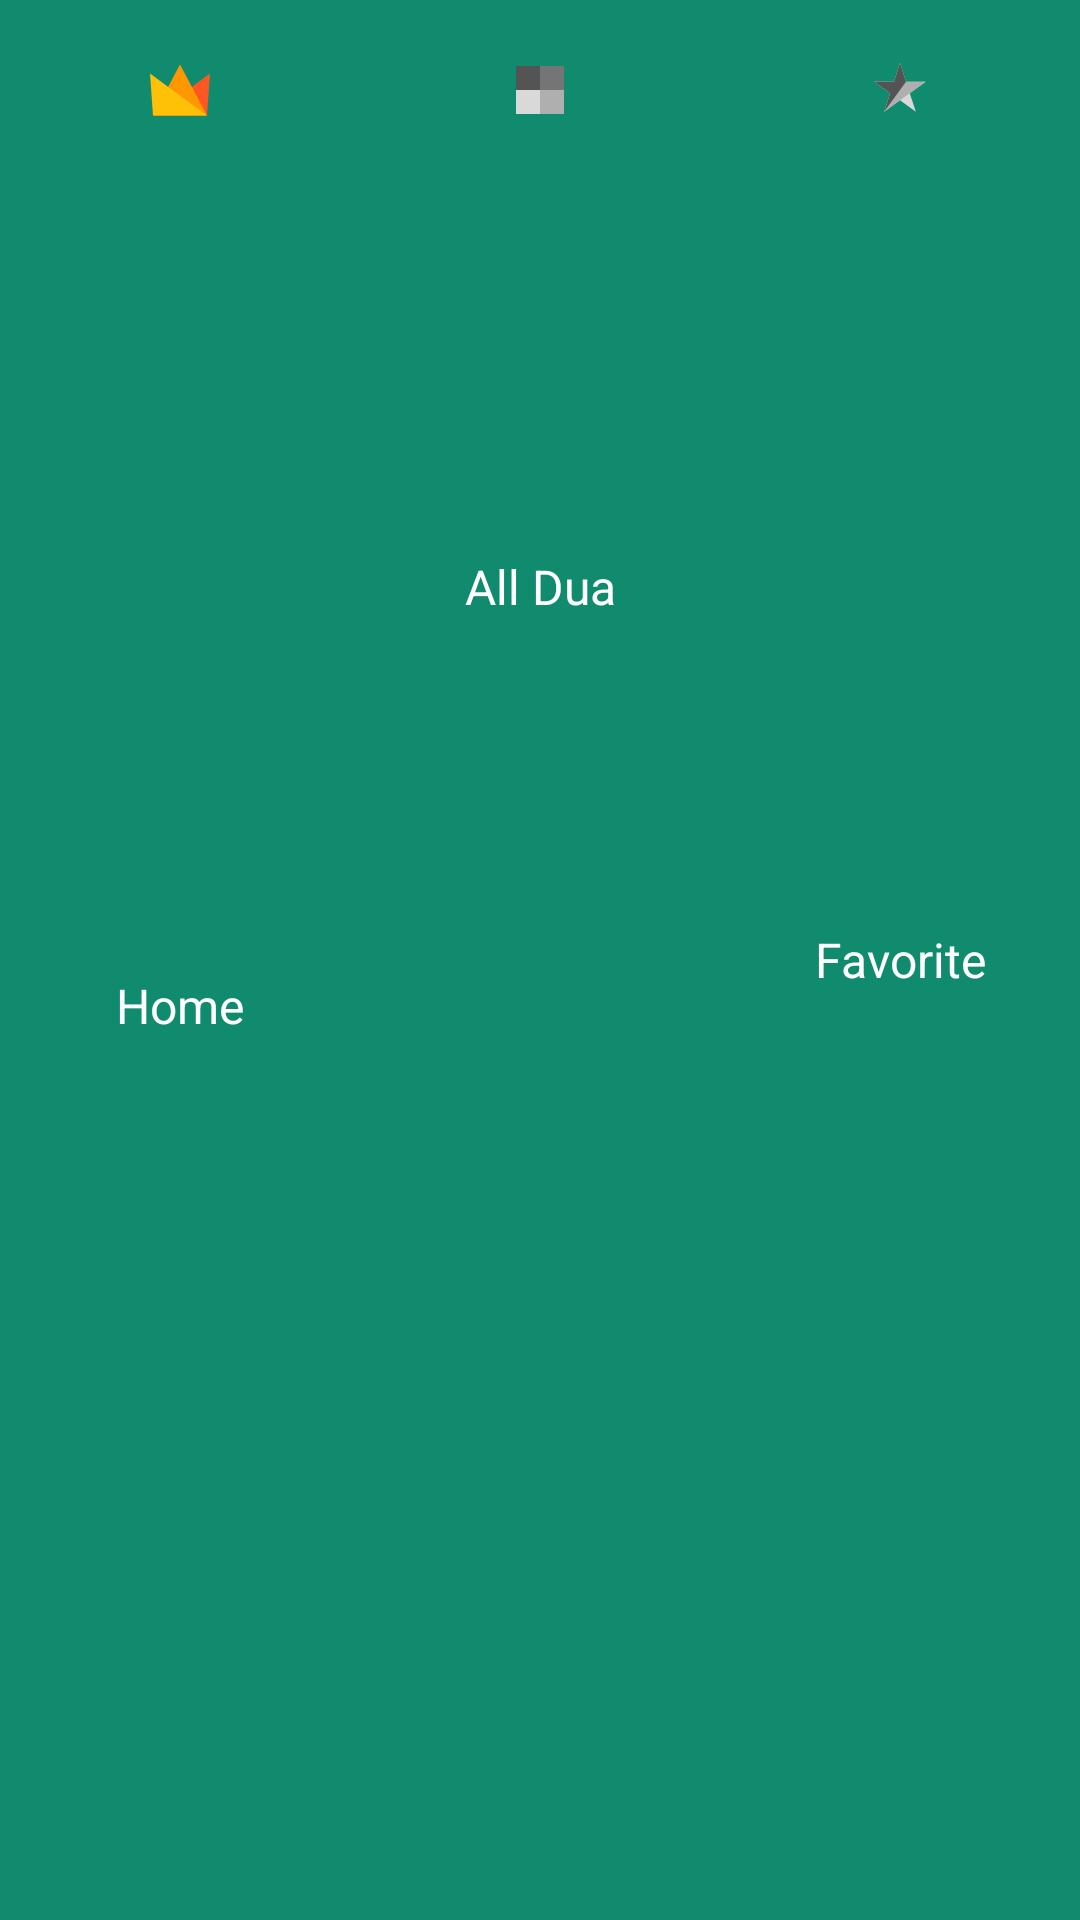

Screen size 1080 x 1920. Icon name, then its center in pixels as [x,y]:
genre deselected: [540,90]
top deselected: [900,87]
